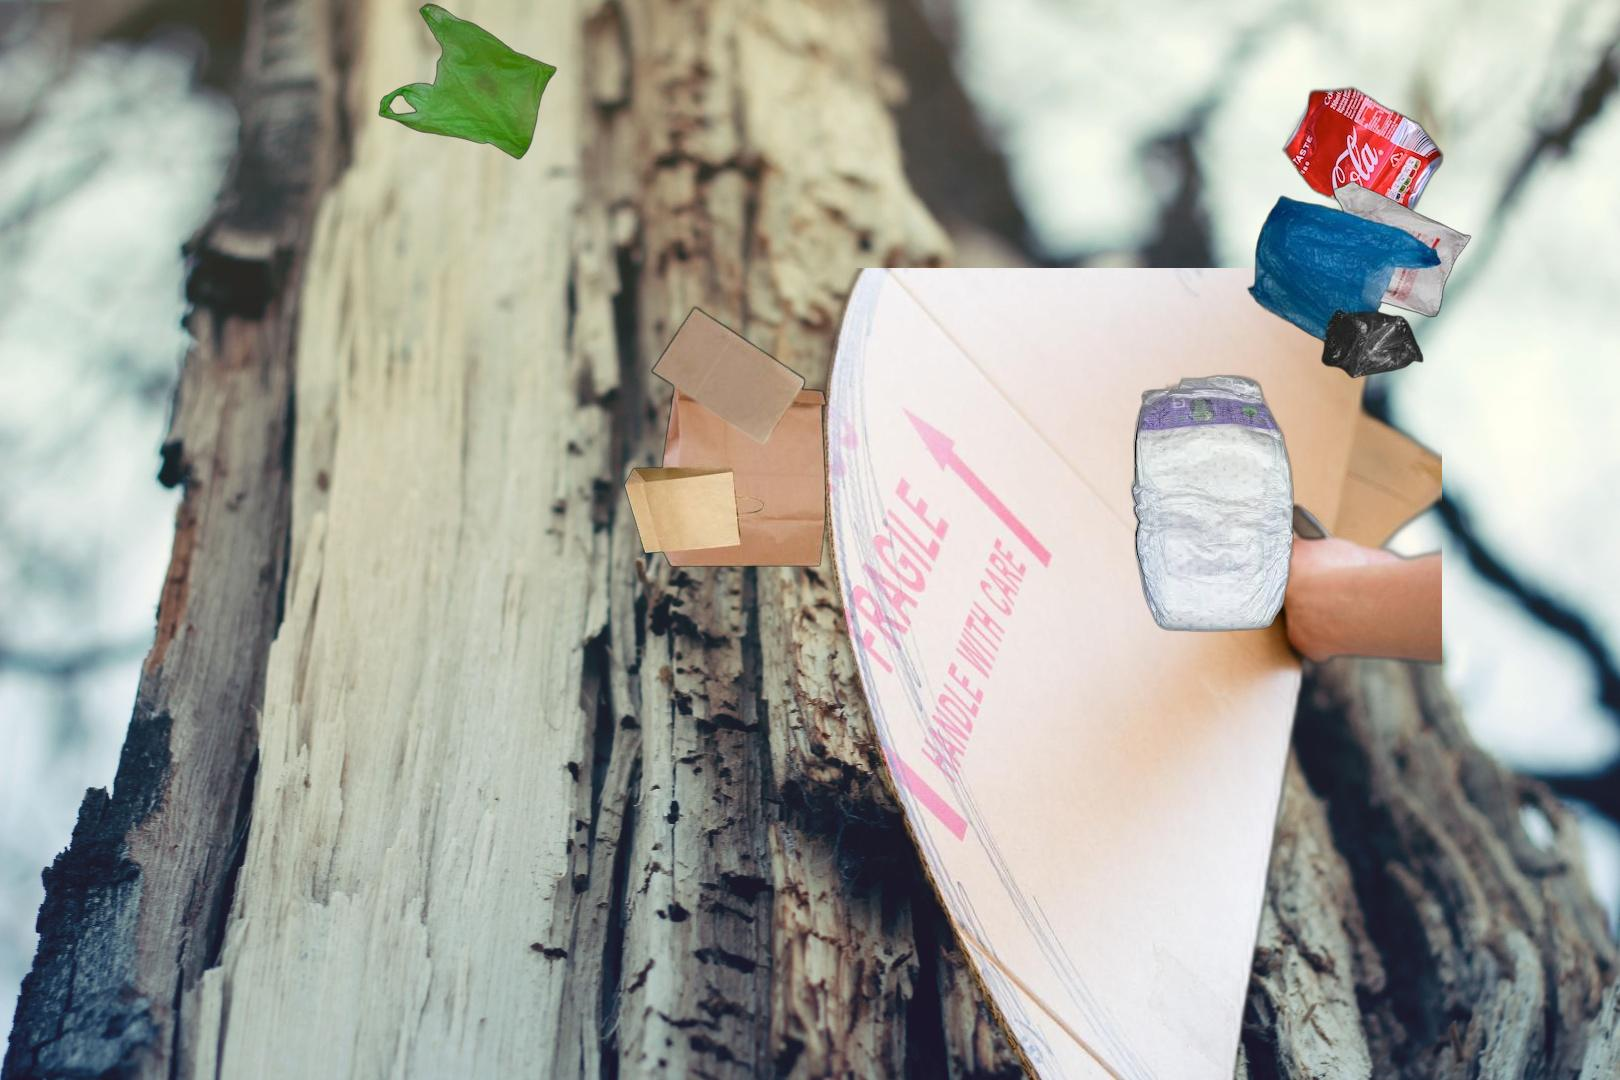metal-cans: (1279, 82, 1448, 221)
paper-bag: (622, 304, 830, 570)
penholder: (1095, 448, 1222, 563)
plastic-bag: (1245, 180, 1472, 381), (376, 1, 560, 162)
trash: (1126, 372, 1296, 635)
trashbox-cardboard: (162, 268, 1442, 1080)
